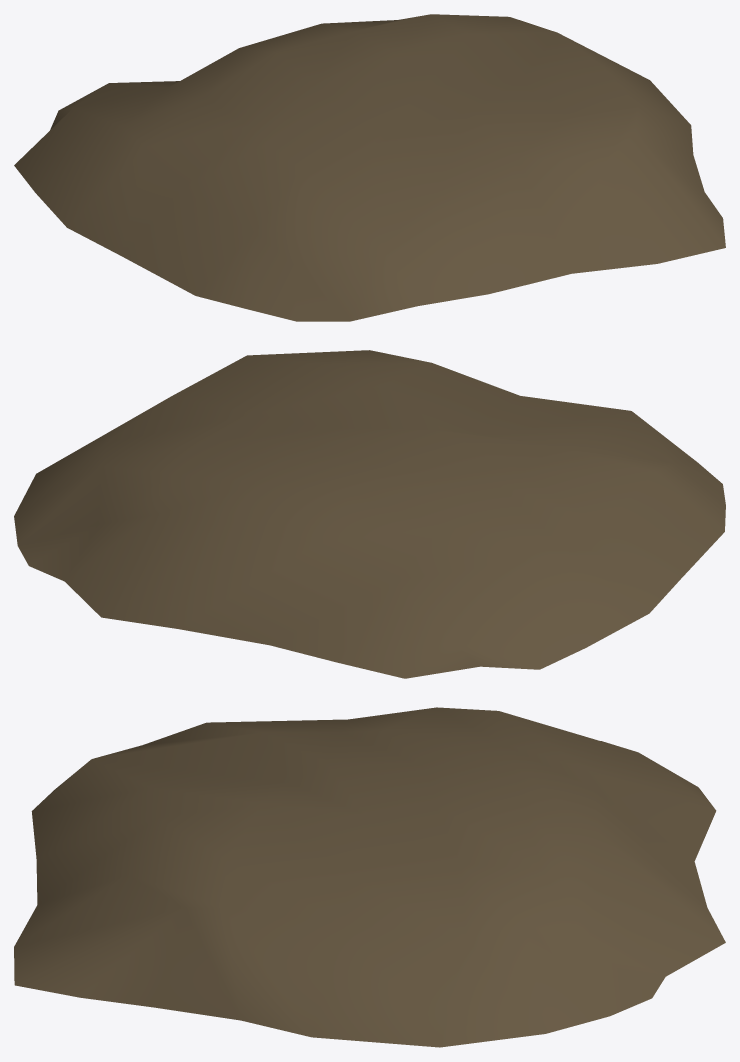
File: noise_rocks_3.fbx
3 views of the same model, one above another, from view 1: azimuth 30°, elevation 25°; view 2: azimuth 150°, elevation 25°; view 3: azimuth 270°, elevation 25° (orthographic). The views are drawn at different scales.
Visible parts, largest first — view 1: noise_rocks_3; view 2: noise_rocks_3; view 3: noise_rocks_3.
Boxes of the visible parts, x1,y1,x2,y2 form: noise_rocks_3: [14, 14, 725, 321]; noise_rocks_3: [14, 350, 725, 678]; noise_rocks_3: [14, 707, 725, 1047].
Size of the model in its own units: 336 by 50.25 by 314.
